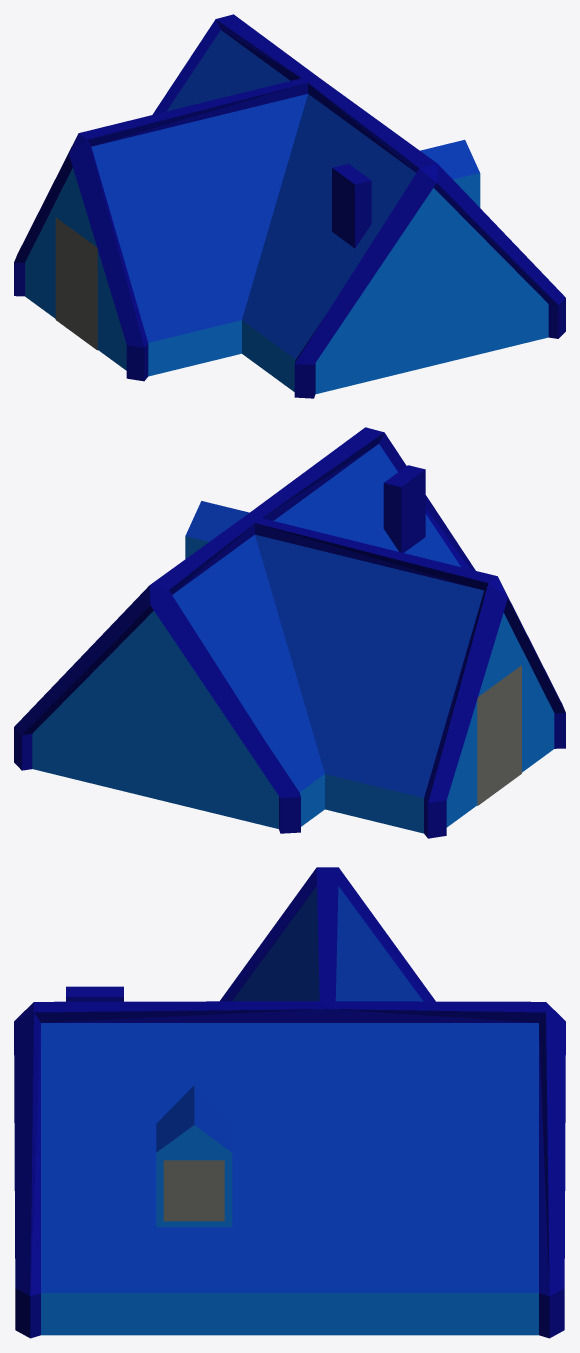
Rendered from House-Snow-S-2.fbx.
3 renders of one model, top to bottom at view 1: azimuth 30°, elevation 25°; view 2: azimuth 150°, elevation 25°; view 3: azimuth 270°, elevation 25°, orthographic. The views are drawn at different scales.
Parts seen in each view (by area): view 1: House-Snow-S-2; view 2: House-Snow-S-2; view 3: House-Snow-S-2.
Boxes of the visible parts, <box> form: House-Snow-S-2: <box>14,14,565,398</box>; House-Snow-S-2: <box>14,427,565,838</box>; House-Snow-S-2: <box>14,867,565,1338</box>.
Bounding box in the file's own units: 728 × 367 × 732.
